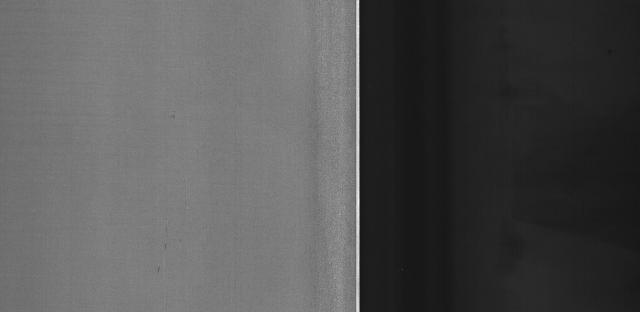inclusion: (152, 262, 164, 276)
